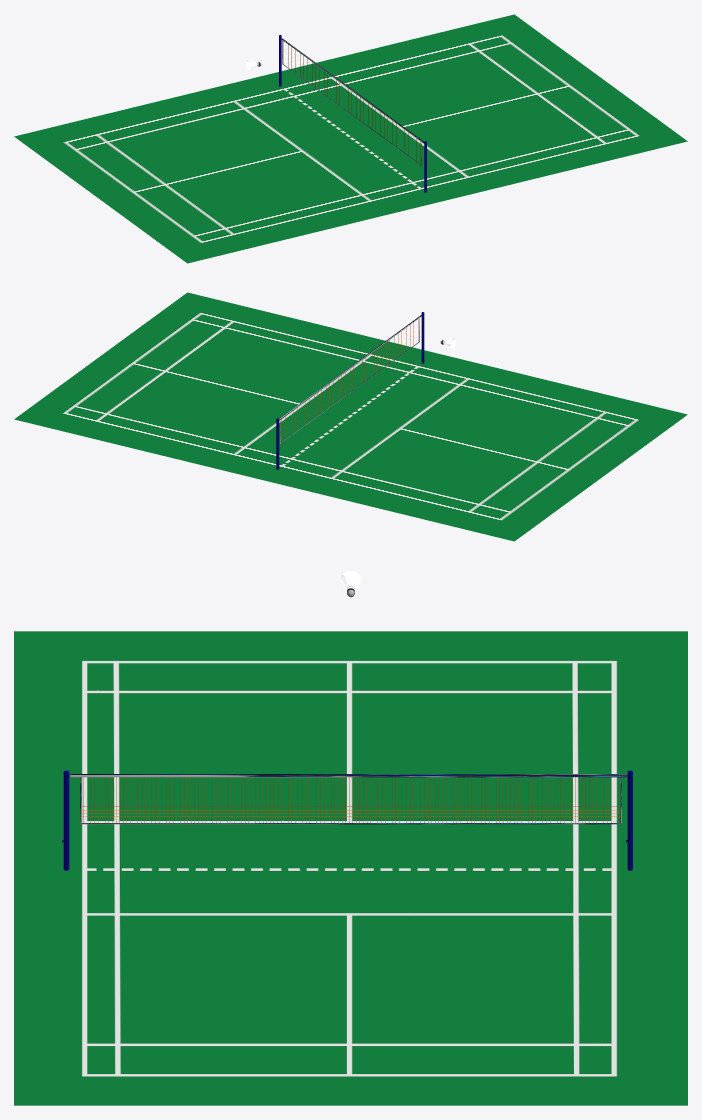
File: badminton-action.glb
The picture shows the model from 3 angles, top to bottom: view 1: azimuth 30°, elevation 25°; view 2: azimuth 150°, elevation 25°; view 3: azimuth 270°, elevation 25°; orthographic projection. The views are drawn at different scales.
Visible parts, largest first — view 1: Object_43, Plane.002_24; view 2: Object_43, Plane.002_24; view 3: Object_43, Plane.002_24, Cube.007_26, Cube.008_27.
Boxes of the visible parts, left/top/right/bottom form: Object_43: left=14, top=14, right=687, bottom=263; Plane.002_24: left=283, top=41, right=420, bottom=163; Object_43: left=14, top=292, right=687, bottom=541; Plane.002_24: left=281, top=319, right=418, bottom=441; Object_43: left=14, top=631, right=687, bottom=1105; Plane.002_24: left=81, top=777, right=620, bottom=822; Cube.007_26: left=70, top=774, right=627, bottom=777; Cube.008_27: left=80, top=823, right=621, bottom=824.
Size of the model in its own units: 37.72 by 7.53 by 22.65.
10 materials, 2 textured.
